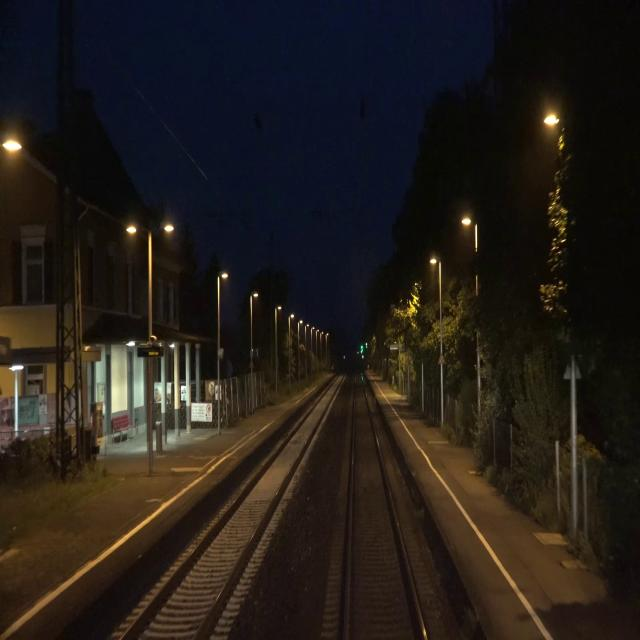rail-track: (126, 380, 337, 639), (348, 372, 422, 639)
